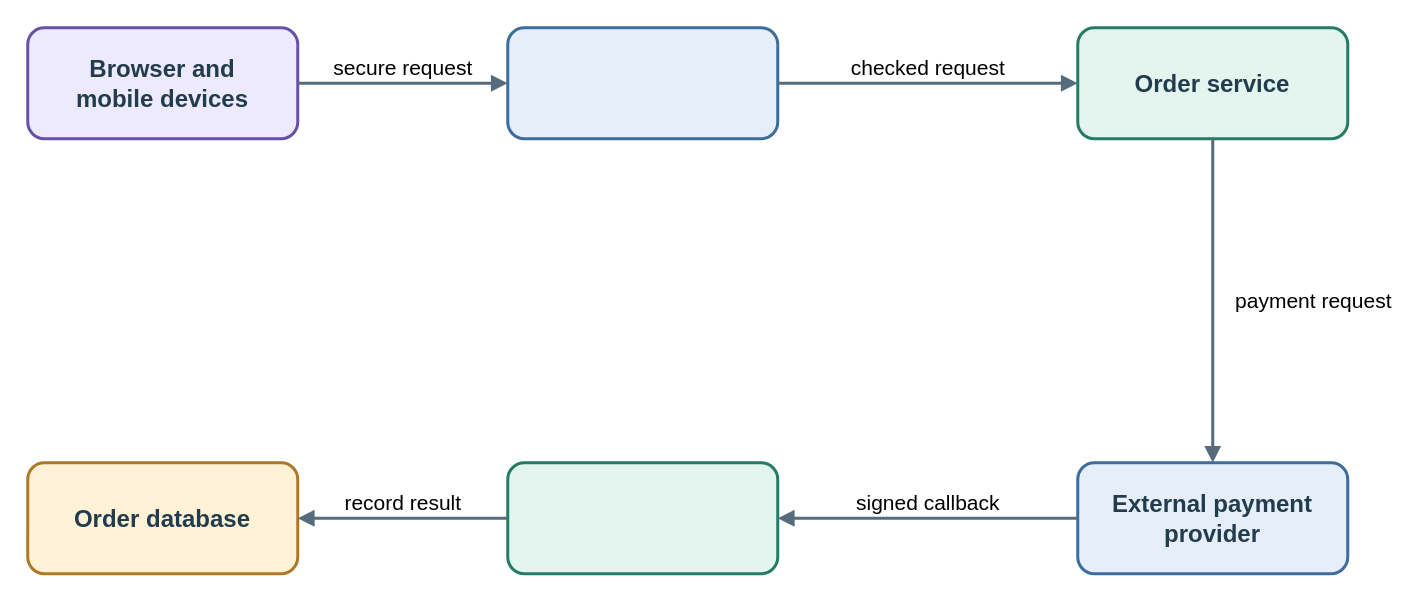
Some shapes in this 1416 by 600 pixel diagram are drawn without their labels. Each missing label, with the centre of its shape:
Callback receiver: point 642,517
Request gateway: point 642,83
